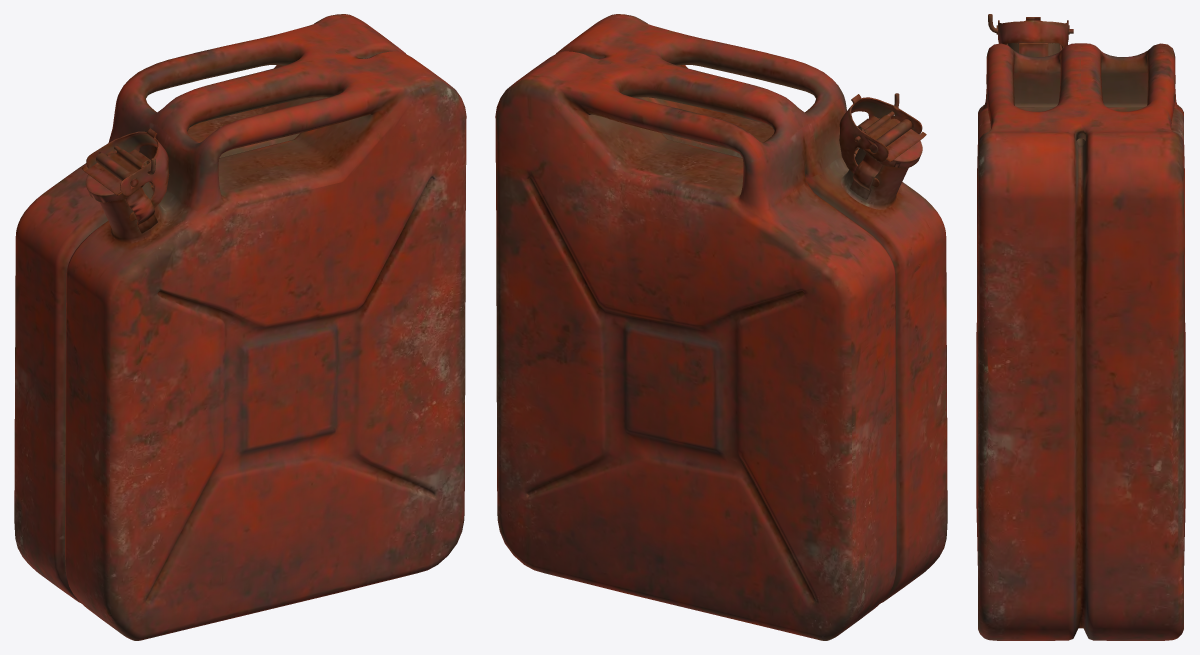
The model's file is metal_jerrycan.glb.
3 renders of one model, left to right at view 1: azimuth 30°, elevation 25°; view 2: azimuth 150°, elevation 25°; view 3: azimuth 270°, elevation 25°, orthographic. The views are drawn at different scales.
Visible parts, largest first — view 1: metal_jerrycan; view 2: metal_jerrycan; view 3: metal_jerrycan.
Boxes of the visible parts, bbox=[...] form: metal_jerrycan: bbox=[14, 14, 466, 640]; metal_jerrycan: bbox=[495, 14, 947, 640]; metal_jerrycan: bbox=[976, 14, 1185, 640].
Bounding box in the file's own units: 0.3503 × 0.4552 × 0.1717.
Materials: 1 (1 with a texture image).
